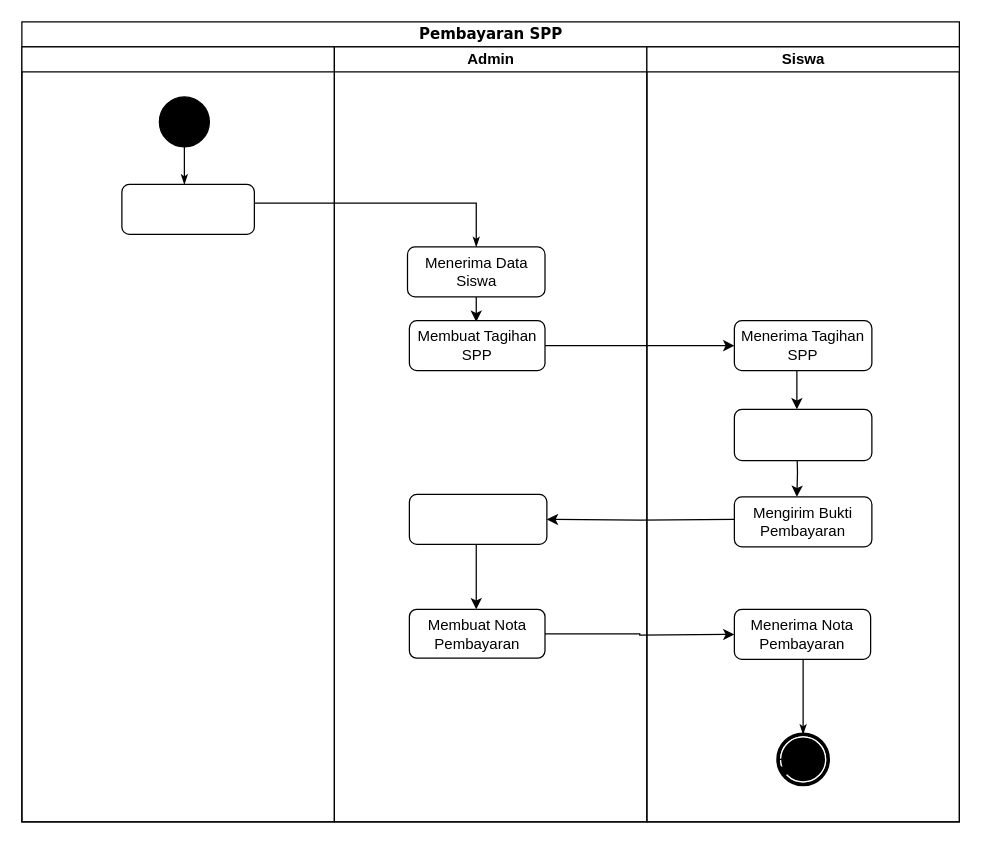
Image size: 981x844. Some labels were removed from this diagram. The box of each missing label's shape, as (x1, y1, x2, y2) in pixels:
Melakukan Pembayaran: (733, 408, 872, 461)
Menerima Bukti Pembayaran: (408, 493, 547, 544)
Menginput Data Siswa: (121, 183, 254, 234)
Wali Kelas: (21, 46, 334, 822)
